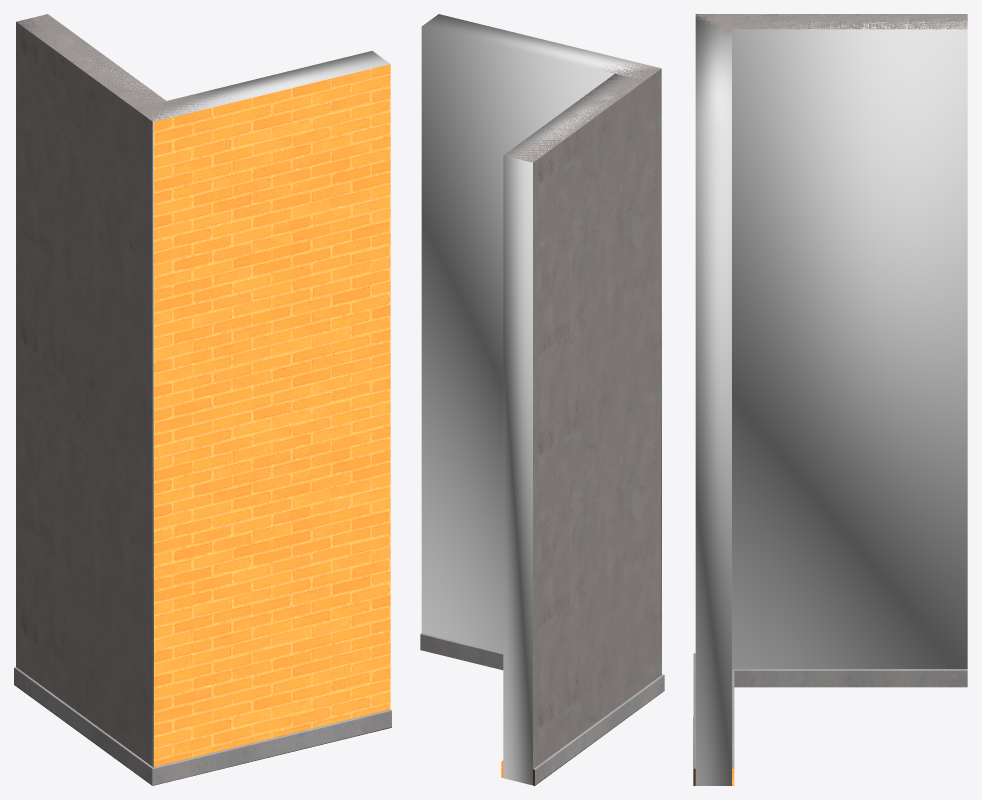
File: SM_Wall_CornerOut_Interior_1_5x3_5_01a.fbx
3 views of the same model, side by side, from view 1: azimuth 30°, elevation 25°; view 2: azimuth 150°, elevation 25°; view 3: azimuth 270°, elevation 25° (orthographic). The views are drawn at different scales.
Parts seen in each view (by area): view 1: SM_Wall_CornerOut_Interior_1_5x3_5_01a, SM_Wall_CornerOut_Interior_1_5x3_5_01a_ConvexHulls; view 2: SM_Wall_CornerOut_Interior_1_5x3_5_01a, SM_Wall_CornerOut_Interior_1_5x3_5_01a_ConvexHulls; view 3: SM_Wall_CornerOut_Interior_1_5x3_5_01a_ConvexHulls, SM_Wall_CornerOut_Interior_1_5x3_5_01a.
Part boxes in pixels (box(x1,y1,x2,y2)): SM_Wall_CornerOut_Interior_1_5x3_5_01a: box(14, 14, 391, 785); SM_Wall_CornerOut_Interior_1_5x3_5_01a_ConvexHulls: box(17, 15, 390, 767); SM_Wall_CornerOut_Interior_1_5x3_5_01a: box(420, 63, 664, 785); SM_Wall_CornerOut_Interior_1_5x3_5_01a_ConvexHulls: box(421, 14, 661, 785); SM_Wall_CornerOut_Interior_1_5x3_5_01a_ConvexHulls: box(695, 14, 967, 785); SM_Wall_CornerOut_Interior_1_5x3_5_01a: box(693, 14, 967, 785).
Size of the model in its own units: 151 by 400 by 151.
